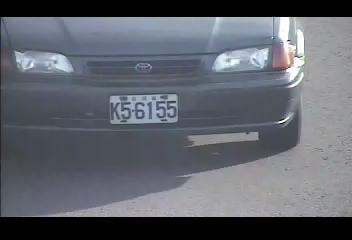plate: (107, 93, 180, 125)
